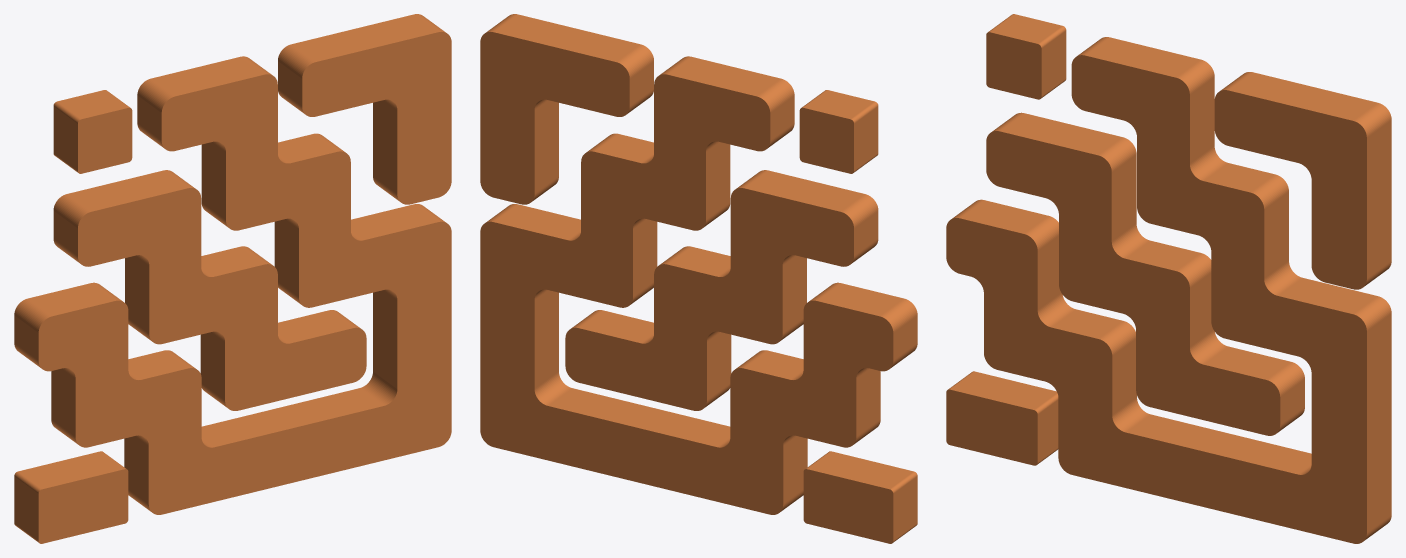
File: atopile-icon.glb
3 renders of one model, left to right at view 1: azimuth 30°, elevation 25°; view 2: azimuth 150°, elevation 25°; view 3: azimuth 330°, elevation 25°, orthographic.
Parts seen in each view (by area): view 1: world; view 2: world; view 3: world.
Part boxes in pixels (x1,y1,x2,y2): world: (14, 14, 451, 543); world: (480, 14, 917, 543); world: (946, 14, 1391, 543).
Size of the model in its own units: 10 by 9.6 by 1.02.
